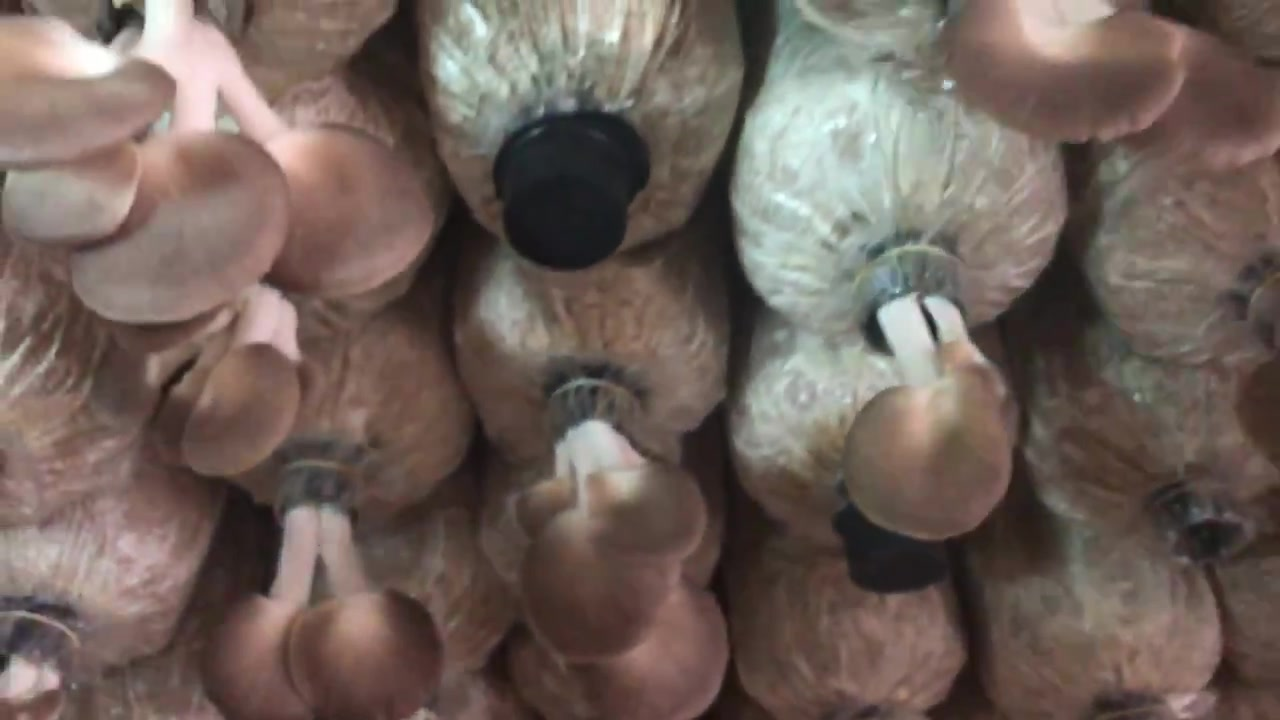nam: (1, 3, 432, 327), (514, 380, 731, 719), (203, 456, 443, 720), (942, 1, 1279, 167), (843, 249, 1014, 542), (88, 280, 324, 477)
